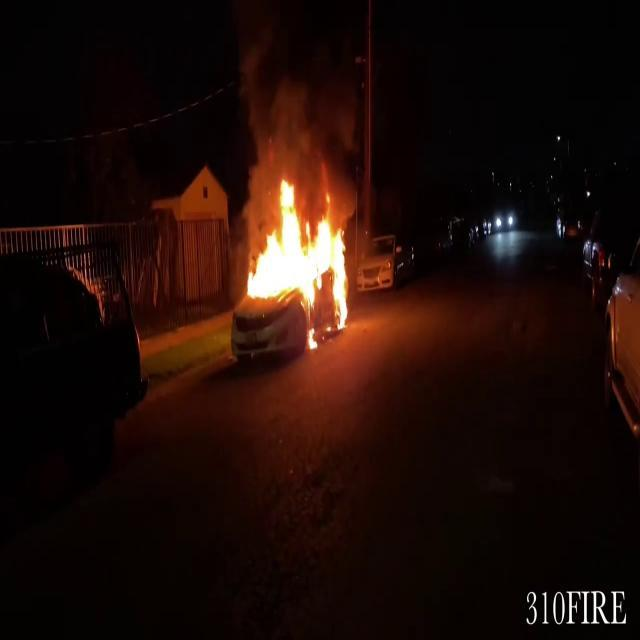Fire: (242, 172, 354, 340)
Smoke: (222, 5, 370, 193)
